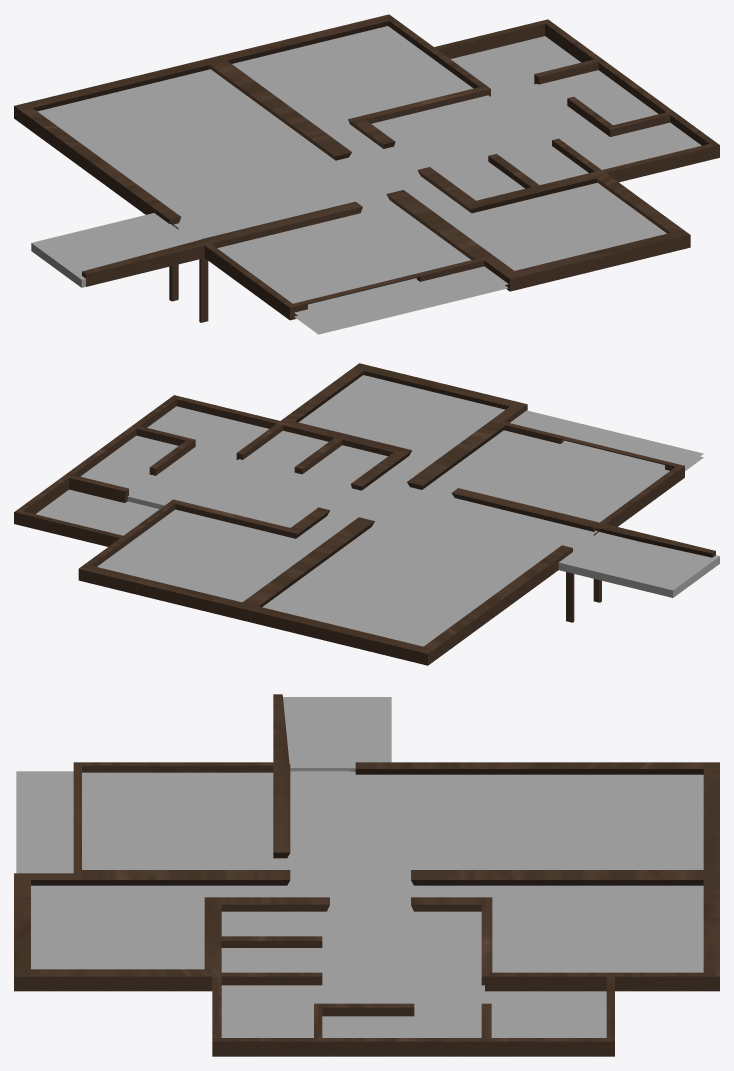
Rendered from ceiling.fbx.
3 renders of one model, top to bottom at view 1: azimuth 30°, elevation 25°; view 2: azimuth 150°, elevation 25°; view 3: azimuth 270°, elevation 25°, orthographic. The views are drawn at different scales.
Visible parts, largest first — view 1: pPlane7, Wall3, pPlane4, pCube113, pPlane5, pPlane6, pCube115; view 2: pPlane7, Wall3, pPlane4, pCube113, pPlane5; view 3: pPlane7, Wall3, pPlane4, pCube113, pPlane5.
Boxes of the visible parts, x1,y1,x2,y2 form: pPlane7: [37, 26, 666, 330]; Wall3: [14, 14, 719, 320]; pPlane4: [490, 70, 701, 169]; pCube113: [31, 213, 193, 287]; pPlane5: [450, 36, 580, 94]; pPlane6: [178, 228, 508, 334]; pCube115: [199, 258, 208, 322]; pPlane7: [97, 375, 703, 646]; Wall3: [14, 363, 715, 665]; pPlane4: [81, 406, 268, 508]; pCube113: [558, 531, 719, 597]; pPlane5: [36, 489, 159, 535]; pPlane7: [16, 771, 703, 981]; Wall3: [14, 694, 719, 1056]; pPlane4: [221, 982, 484, 1037]; pCube113: [283, 697, 391, 771]; pPlane5: [485, 991, 606, 1037].
Size of the model in its own units: 109 by 13.68 by 93.09.
